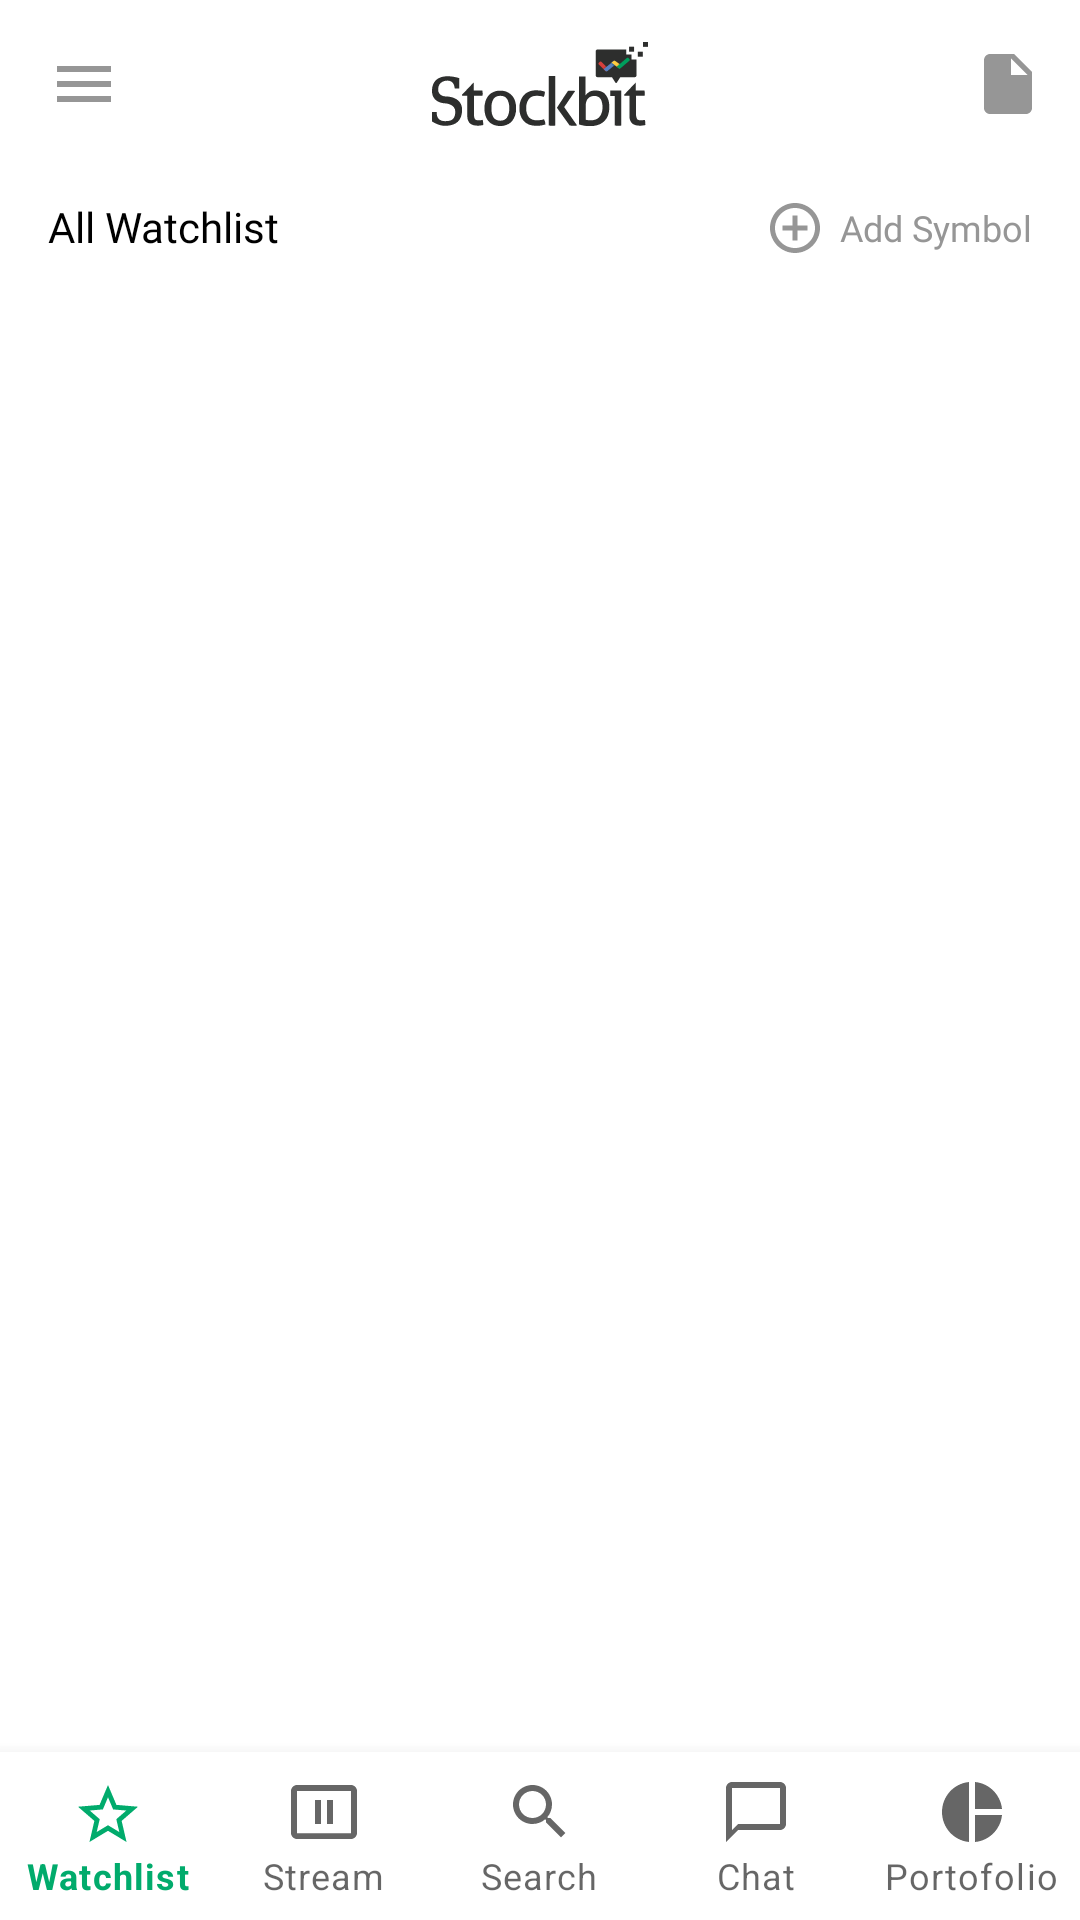

Where to tap for icons on this 1080×1920 app screen, as (x,y):
add circle: (795,228)
